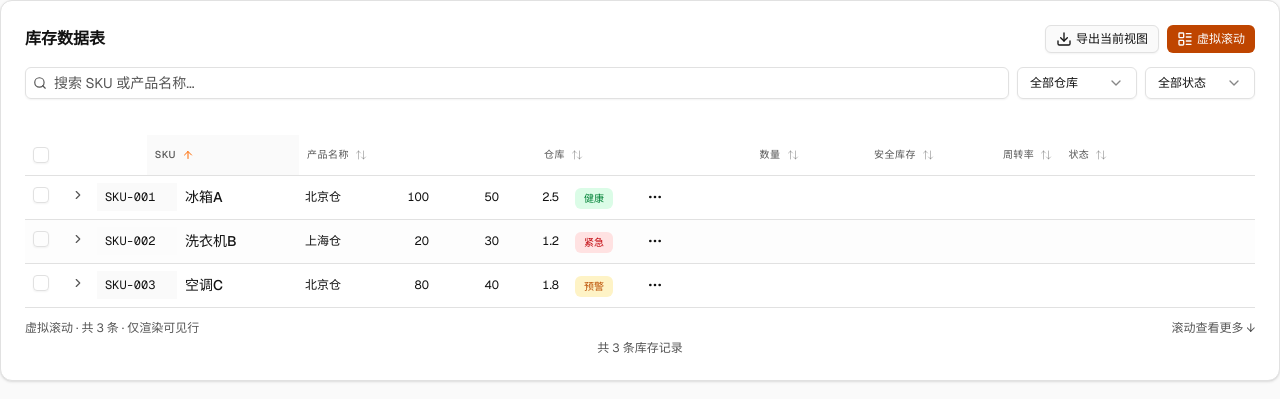
Test: InventoryDataTable › filters rows by global search on SKU
The image size is (1280, 399).
Type "SKU-001" into the field with placeholder "搜索 SKU 或产品名称...".
click(517, 83); type("SKU-001")  # box [25, 67, 1009, 99]
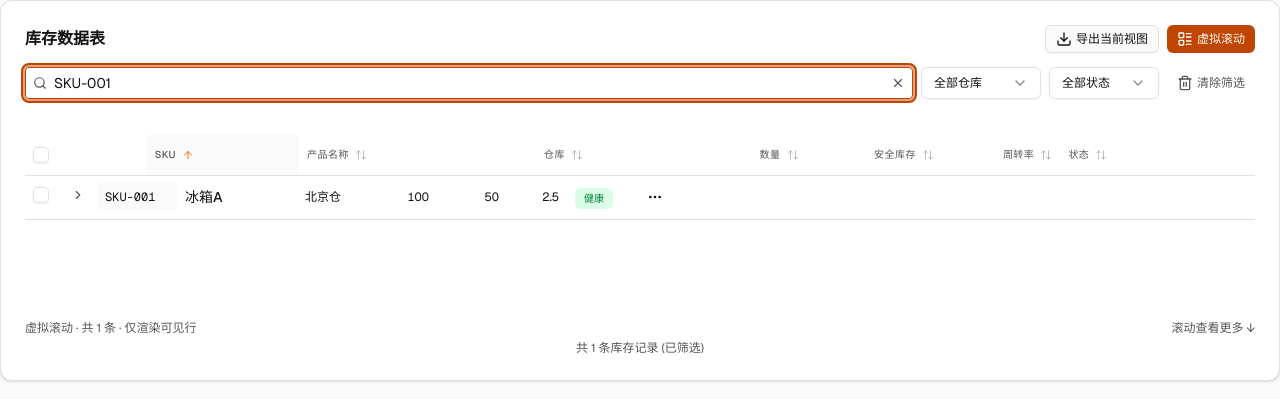
expect the text "SKU-001" is shown: met, box [97, 183, 177, 211]
expect the text "SKU-002" is gone: met
expect the text "SKU-003" is gone: met
